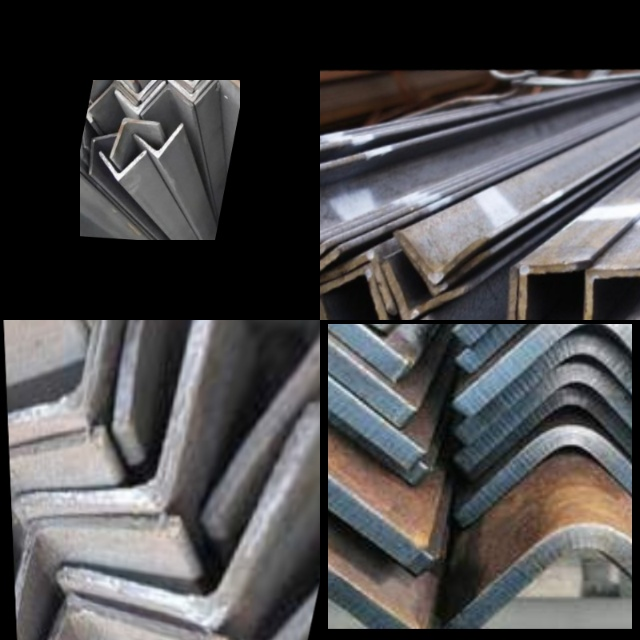Angle: (65, 415, 312, 622), (15, 320, 216, 505), (210, 320, 320, 517), (12, 515, 172, 640), (113, 548, 320, 640), (451, 536, 632, 628), (9, 437, 95, 616), (467, 373, 632, 461), (467, 345, 632, 432), (466, 324, 632, 406), (465, 435, 632, 513), (477, 394, 632, 472), (4, 320, 114, 428), (27, 591, 215, 640), (328, 355, 411, 465), (328, 450, 408, 560), (328, 477, 419, 571), (328, 324, 405, 432), (328, 384, 410, 484), (276, 456, 320, 640), (124, 320, 199, 412), (468, 324, 632, 361), (391, 224, 482, 289), (320, 247, 401, 320), (380, 252, 465, 320), (328, 549, 393, 625), (328, 324, 396, 393), (502, 264, 582, 320), (320, 262, 395, 320), (402, 247, 478, 301), (4, 320, 52, 400), (515, 263, 577, 320), (579, 266, 640, 320), (320, 291, 400, 320), (112, 119, 158, 158), (112, 80, 165, 112), (130, 124, 181, 155), (89, 82, 139, 112), (98, 151, 145, 176), (320, 249, 336, 320), (87, 133, 115, 172), (144, 80, 193, 100), (166, 80, 216, 99), (114, 80, 161, 96)
